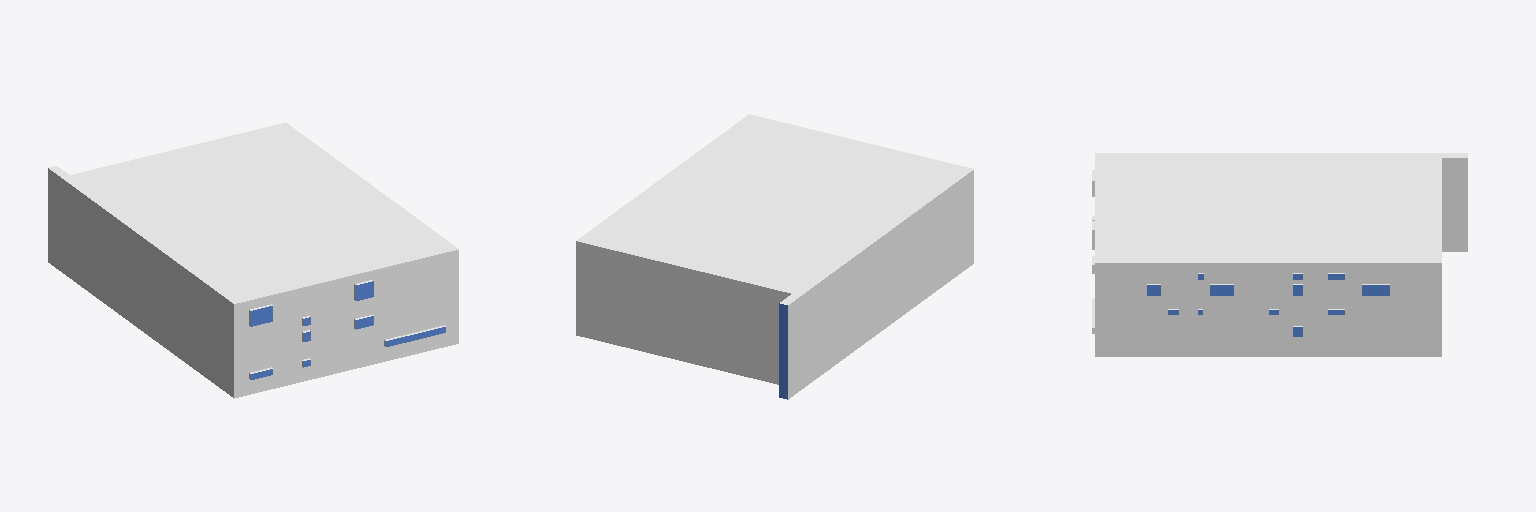
File: corbu_2344.obj
3 renders of one model, left to right at view 1: azimuth 30°, elevation 25°; view 2: azimuth 150°, elevation 25°; view 3: azimuth 270°, elevation 25°, orthographic.
Size of the model in its own units: 7.6 by 3 by 10.85.